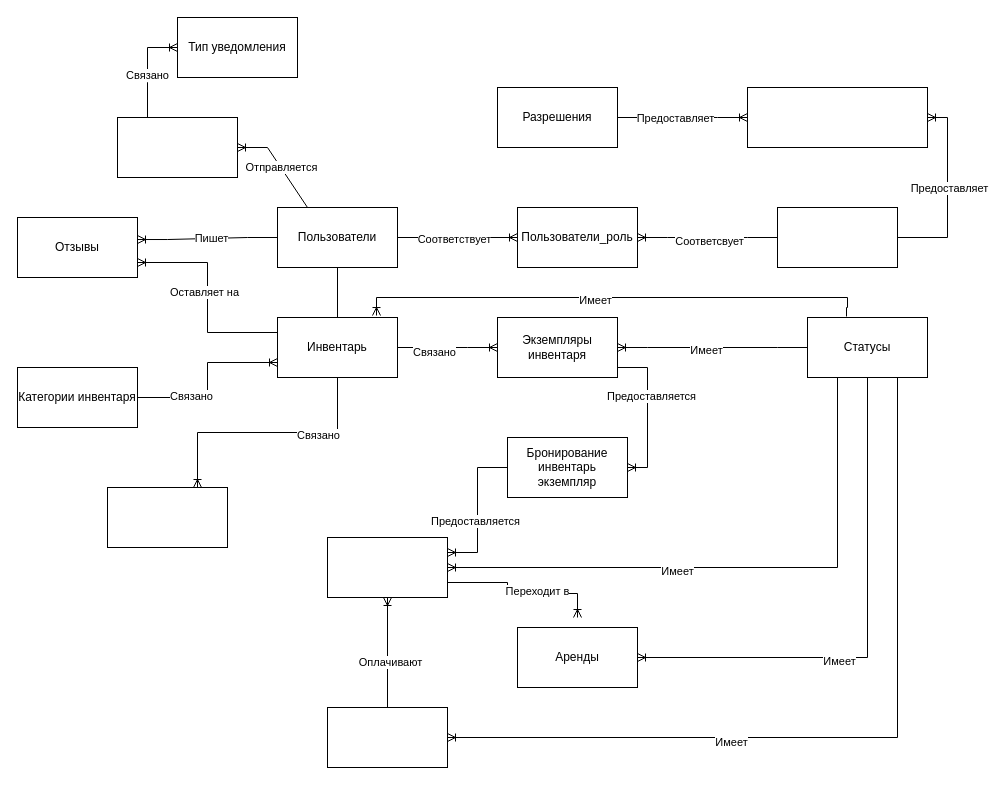
Image size: 1005x785. Some labels were removed from this diagram. The shapes that lost their labels are listed below. From the top down, each one's centre as x and y in pixels, then its label:
At pixel 837 117: "Роль_разрешение".
At pixel 177 147: "Уведомления".
At pixel 837 237: "Роли".
At pixel 167 517: "Фотографии инвентаря".
At pixel 387 567: "Бронирования".
At pixel 387 737: "Платежи".
